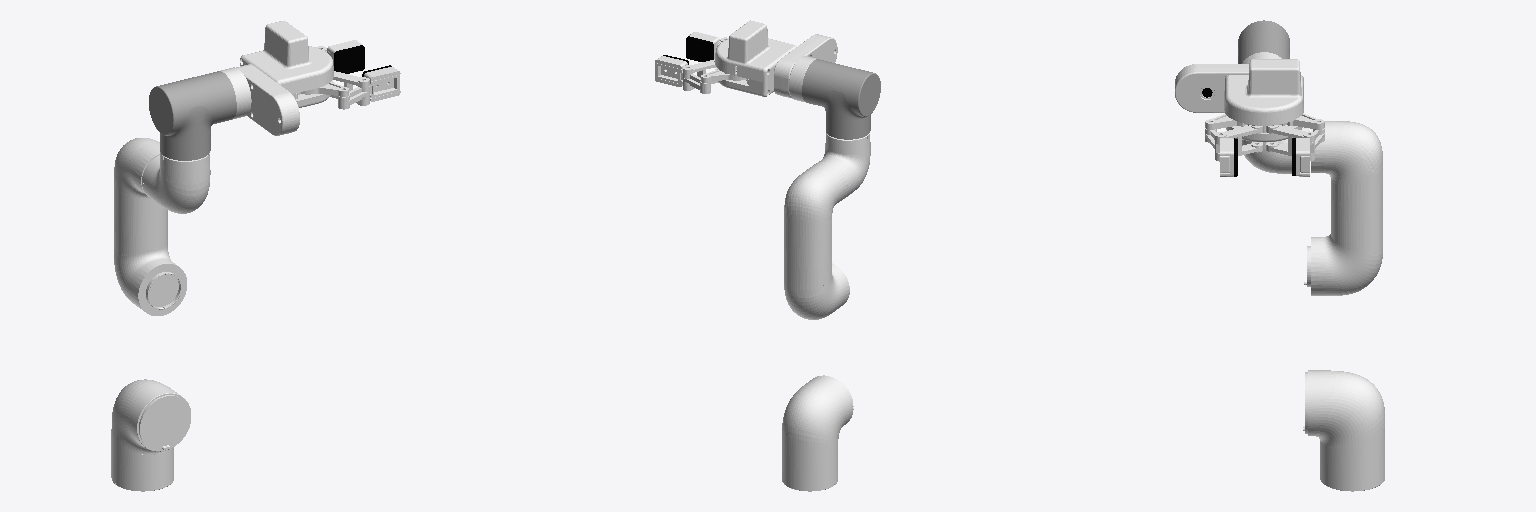
robot.urdf — mycobot_280_jn:
<?xml version="1.0"?>
<robot name="mycobot_280_jn">
  <link name="world"/>
  <joint name="world_to_g_base" type="fixed"><parent link="world"/><child link="g_base"/><origin xyz="0 0 0" rpy="0 0 0"/></joint>

  <link name="g_base">
    <visual>
      <geometry><mesh filename="package://mycobot_description/urdf/mycobot_280_jn_sim/meshes/visual/g_base.dae"/></geometry>
    </visual>
    <collision>
      <geometry><mesh filename="package://mycobot_description/urdf/mycobot_280_jn_sim/meshes/collision/g_base.stl"/></geometry>
    </collision>
    <inertial>
      <origin xyz="0.000004 0.000000 0.016000" rpy="0 0 0"/>
      <mass value="1.00000"/>
      <inertia ixx="1.9413e-03" ixy="3.1506e-09" ixz="8.1608e-14" iyy="1.0835e-03" iyz="-2.2217e-08" izz="2.8542e-03"/>
    </inertial>
  </link>
  <joint name="g_base_to_joint1" type="fixed"><parent link="g_base"/><child link="joint1"/><origin xyz="0 0 0.0320" rpy="0 0 0"/></joint>

  <link name="joint1">
    <visual>
      <geometry><mesh filename="package://mycobot_description/urdf/mycobot_280_jn_sim/meshes/visual/joint1.dae"/></geometry>
    </visual>
    <collision>
      <geometry><mesh filename="package://mycobot_description/urdf/mycobot_280_jn_sim/meshes/collision/joint1.stl"/></geometry>
    </collision>
    <inertial>
      <origin xyz="-0.000007 -0.000080 0.049738" rpy="0 0 0"/>
      <mass value="0.51726"/>
      <inertia ixx="1.2523e-03" ixy="7.0339e-09" ixz="-6.3450e-08" iyy="9.3955e-04" iyz="1.1529e-06" izz="1.2061e-03"/>
    </inertial>
  </link>
  <link name="joint2">
    <visual>
      <geometry><mesh filename="package://mycobot_description/urdf/mycobot_280_jn_sim/meshes/visual/joint2.dae"/></geometry>
    </visual>
    <collision>
      <geometry><mesh filename="package://mycobot_description/urdf/mycobot_280_jn_sim/meshes/collision/joint2.stl"/></geometry>
    </collision>
    <inertial>
      <origin xyz="-0.000000 -0.006642 -0.021543" rpy="0 0 0"/>
      <mass value="0.06483"/>
      <inertia ixx="4.7296e-05" ixy="-1.4455e-10" ixz="4.0893e-11" iyy="4.2690e-05" iyz="5.2950e-06" izz="2.4363e-05"/>
    </inertial>
  </link>
  <link name="joint3">
    <visual>
      <geometry><mesh filename="package://mycobot_description/urdf/mycobot_280_jn_sim/meshes/visual/joint3.dae"/></geometry>
    </visual>
    <collision>
      <geometry><mesh filename="package://mycobot_description/urdf/mycobot_280_jn_sim/meshes/collision/joint3.stl"/></geometry>
    </collision>
    <inertial>
      <origin xyz="-0.054329 -0.000001 0.055329" rpy="0 0 0"/>
      <mass value="0.11472"/>
      <inertia ixx="4.1667e-05" ixy="-4.5301e-09" ixz="-7.2144e-07" iyy="2.1506e-04" iyz="-8.8599e-10" izz="2.0847e-04"/>
    </inertial>
  </link>
  <link name="joint4">
    <visual>
      <geometry><mesh filename="package://mycobot_description/urdf/mycobot_280_jn_sim/meshes/visual/joint4.dae"/></geometry>
    </visual>
    <collision>
      <geometry><mesh filename="package://mycobot_description/urdf/mycobot_280_jn_sim/meshes/collision/joint4.stl"/></geometry>
    </collision>
    <inertial>
      <origin xyz="-0.045854 0.000000 0.007555" rpy="0 0 0"/>
      <mass value="0.09148"/>
      <inertia ixx="3.0829e-05" ixy="2.4590e-09" ixz="-3.0073e-06" iyy="1.3707e-04" iyz="1.3305e-09" izz="1.2859e-04"/>
    </inertial>
  </link>
  <link name="joint5">
    <visual>
      <geometry><mesh filename="package://mycobot_description/urdf/mycobot_280_jn_sim/meshes/visual/joint5.dae"/></geometry>
    </visual>
    <collision>
      <geometry><mesh filename="package://mycobot_description/urdf/mycobot_280_jn_sim/meshes/collision/joint5.stl"/></geometry>
    </collision>
    <inertial>
      <origin xyz="0.000001 -0.009519 -0.008481" rpy="0 0 0"/>
      <mass value="0.02935"/>
      <inertia ixx="1.1293e-05" ixy="2.2528e-10" ixz="1.0500e-10" iyy="8.1426e-06" iyz="1.6096e-06" izz="8.8742e-06"/>
    </inertial>
  </link>
  <link name="joint6">
    <visual>
      <geometry><mesh filename="package://mycobot_description/urdf/mycobot_280_jn_sim/meshes/visual/joint6.dae"/></geometry>
    </visual>
    <collision>
      <geometry><mesh filename="package://mycobot_description/urdf/mycobot_280_jn_sim/meshes/collision/joint6.stl"/></geometry>
    </collision>
    <inertial>
      <origin xyz="-0.000000 0.005619 -0.009142" rpy="0 0 0"/>
      <mass value="0.03671"/>
      <inertia ixx="1.6852e-05" ixy="1.3225e-11" ixz="9.2639e-11" iyy="1.2050e-05" iyz="-8.3674e-07" izz="1.2581e-05"/>
    </inertial>
  </link>
  <link name="joint6_flange">
    <visual>
      <geometry><mesh filename="package://mycobot_description/urdf/mycobot_280_jn_sim/meshes/visual/joint6_flange.dae"/></geometry>
    </visual>
    <collision>
      <geometry><mesh filename="package://mycobot_description/urdf/mycobot_280_jn_sim/meshes/collision/joint6_flange.stl"/></geometry>
    </collision>
    <inertial>
      <origin xyz="-0.000000 -0.000000 -0.005150" rpy="0 0 0"/>
      <mass value="0.00565"/>
      <inertia ixx="6.0852e-07" ixy="-5.1861e-24" ixz="1.4684e-24" iyy="6.0852e-07" iyz="-7.5632e-16" izz="1.0405e-06"/>
    </inertial>
  </link>
  <joint name="joint2_to_joint1" type="revolute">
    <parent link="joint1"/><child link="joint2"/>
    <origin xyz="0 0 0.15756" rpy="0 0 0"/>
    <axis xyz="0 0 1"/>
    <limit effort="10.0" lower="-2.9321" upper="2.9321" velocity="1.0"/>
    <dynamics damping="0.1" friction="0.01"/>
  </joint>
  <joint name="joint3_to_joint2" type="revolute">
    <parent link="joint2"/><child link="joint3"/>
    <origin xyz="0 0 -0.001" rpy="0 1.5708 -1.5708"/>
    <axis xyz="0 0 1"/>
    <limit effort="10.0" lower="-2.4434" upper="2.4434" velocity="1.0"/>
    <dynamics damping="0.1" friction="0.01"/>
  </joint>
  <joint name="joint4_to_joint3" type="revolute">
    <parent link="joint3"/><child link="joint4"/>
    <origin xyz="-0.1104 0 0" rpy="0 0 0"/>
    <axis xyz="0 0 1"/>
    <limit effort="10.0" lower="-2.6179" upper="2.6179" velocity="1.0"/>
    <dynamics damping="0.1" friction="0.01"/>
  </joint>
  <joint name="joint5_to_joint4" type="revolute">
    <parent link="joint4"/><child link="joint5"/>
    <origin xyz="-0.096 0 0.06462" rpy="0 0 -1.5708"/>
    <axis xyz="0 0 1"/>
    <limit effort="10.0" lower="-2.6179" upper="2.6179" velocity="1.0"/>
    <dynamics damping="0.1" friction="0.01"/>
  </joint>
  <joint name="joint6_to_joint5" type="revolute">
    <parent link="joint5"/><child link="joint6"/>
    <origin xyz="0 -0.07318 0" rpy="1.5708 -1.5708 0"/>
    <axis xyz="0 0 1"/>
    <limit effort="10.0" lower="-2.7052" upper="2.7925" velocity="1.0"/>
    <dynamics damping="0.1" friction="0.01"/>
  </joint>
  <joint name="joint6output_to_joint6" type="revolute">
    <parent link="joint6"/><child link="joint6_flange"/>
    <origin xyz="0 0.0456 0" rpy="-1.5708 0 0"/>
    <axis xyz="0 0 1"/>
    <limit effort="10.0" lower="-3.14159" upper="3.14159" velocity="1.0"/>
    <dynamics damping="0.1" friction="0.01"/>
  </joint>
  <joint name="joint6output_to_gripper_base" type="fixed">
    <parent link="joint6_flange"/><child link="gripper_base"/>
    <origin xyz="0 0 0.0505" rpy="1.5708 0 0"/>
  </joint>
  <link name="gripper_base">
    <visual>
      <geometry><mesh filename="package://mycobot_description/urdf/mycobot_280_jn_sim/meshes/visual/gripper_base.dae"/></geometry>
    </visual>
    <collision>
      <geometry><mesh filename="package://mycobot_description/urdf/mycobot_280_jn_sim/meshes/collision/gripper_base.stl"/></geometry>
    </collision>
    <inertial>
      <origin xyz="-0.001001 -0.003635 0.008093" rpy="0 0 0"/>
      <mass value="0.07075"/>
      <inertia ixx="2.8026e-05" ixy="5.3586e-08" ixz="1.3520e-06" iyy="2.7596e-05" iyz="-2.1469e-07" izz="3.3185e-05"/>
    </inertial>
  </link>
  <link name="gripper_left1">
    <visual>
      <geometry><mesh filename="package://mycobot_description/urdf/mycobot_280_jn_sim/meshes/visual/gripper_left1.dae"/></geometry>
    </visual>
    <collision>
      <geometry><mesh filename="package://mycobot_description/urdf/mycobot_280_jn_sim/meshes/collision/gripper_left1.stl"/></geometry>
    </collision>
    <inertial>
      <origin xyz="0.008214 0.028640 -0.008200" rpy="0 0 0"/>
      <mass value="0.00818"/>
      <inertia ixx="1.9436e-06" ixy="-4.0582e-07" ixz="-4.5846e-18" iyy="4.9518e-07" iyz="1.0352e-17" izz="1.9801e-06"/>
    </inertial>
  </link>
  <link name="gripper_left2">
    <visual>
      <geometry><mesh filename="package://mycobot_description/urdf/mycobot_280_jn_sim/meshes/visual/gripper_left2.dae"/></geometry>
    </visual>
    <collision>
      <geometry><mesh filename="package://mycobot_description/urdf/mycobot_280_jn_sim/meshes/collision/gripper_left2.stl"/></geometry>
    </collision>
    <inertial>
      <origin xyz="-0.014480 0.007475 -0.008200" rpy="0 0 0"/>
      <mass value="0.00382"/>
      <inertia ixx="2.5930e-07" ixy="1.8945e-07" ixz="3.4700e-22" iyy="4.8476e-07" iyz="-1.7350e-22" izz="4.9007e-07"/>
    </inertial>
  </link>
  <link name="gripper_left3">
    <visual>
      <geometry><mesh filename="package://mycobot_description/urdf/mycobot_280_jn_sim/meshes/visual/gripper_left3.dae"/></geometry>
    </visual>
    <collision>
      <geometry><mesh filename="package://mycobot_description/urdf/mycobot_280_jn_sim/meshes/collision/gripper_left3.stl"/></geometry>
    </collision>
    <inertial>
      <origin xyz="-0.007273 0.003393 -0.000700" rpy="0 0 0"/>
      <mass value="0.00262"/>
      <inertia ixx="1.8212e-07" ixy="1.1552e-07" ixz="3.0543e-22" iyy="3.1951e-07" iyz="-1.8344e-22" izz="4.9073e-07"/>
    </inertial>
  </link>
  <link name="gripper_right1">
    <visual>
      <geometry><mesh filename="package://mycobot_description/urdf/mycobot_280_jn_sim/meshes/visual/gripper_right1.dae"/></geometry>
    </visual>
    <collision>
      <geometry><mesh filename="package://mycobot_description/urdf/mycobot_280_jn_sim/meshes/collision/gripper_right1.stl"/></geometry>
    </collision>
    <inertial>
      <origin xyz="-0.009429 0.029012 -0.008200" rpy="0 0 0"/>
      <mass value="0.00818"/>
      <inertia ixx="1.9436e-06" ixy="4.0581e-07" ixz="-4.5855e-18" iyy="4.9518e-07" iyz="-1.0353e-17" izz="1.9801e-06"/>
    </inertial>
  </link>
  <link name="gripper_right2">
    <visual>
      <geometry><mesh filename="package://mycobot_description/urdf/mycobot_280_jn_sim/meshes/visual/gripper_right2.dae"/></geometry>
    </visual>
    <collision>
      <geometry><mesh filename="package://mycobot_description/urdf/mycobot_280_jn_sim/meshes/collision/gripper_right2.stl"/></geometry>
    </collision>
    <inertial>
      <origin xyz="0.013373 0.007661 -0.008200" rpy="0 0 0"/>
      <mass value="0.00382"/>
      <inertia ixx="2.6459e-07" ixy="-1.9250e-07" ixz="-4.0483e-22" iyy="4.7946e-07" iyz="2.8917e-23" izz="4.9007e-07"/>
    </inertial>
  </link>
  <link name="gripper_right3">
    <visual>
      <geometry><mesh filename="package://mycobot_description/urdf/mycobot_280_jn_sim/meshes/visual/gripper_right3.dae"/></geometry>
    </visual>
    <collision>
      <geometry><mesh filename="package://mycobot_description/urdf/mycobot_280_jn_sim/meshes/collision/gripper_right3.stl"/></geometry>
    </collision>
    <inertial>
      <origin xyz="0.006227 0.003481 -0.000700" rpy="0 0 0"/>
      <mass value="0.00262"/>
      <inertia ixx="1.8527e-07" ixy="-1.1744e-07" ixz="-1.9519e-22" iyy="3.1623e-07" iyz="-1.5091e-22" izz="4.9060e-07"/>
    </inertial>
  </link>
  <joint name="gripper_controller" type="revolute">
    <parent link="gripper_base"/><child link="gripper_left3"/>
    <origin xyz="-0.012 0.005 0" rpy="0 0 0"/>
    <axis xyz="0 0 1"/>
    <limit effort="10.0" lower="-0.74" upper="0.15" velocity="1.0"/>
    <dynamics damping="0.1" friction="0.01"/>
  </joint>
  <joint name="gripper_base_to_gripper_left2" type="revolute">
    <parent link="gripper_base"/><child link="gripper_left2"/>
    <origin xyz="-0.005 0.027 0" rpy="0 0 0"/>
    <axis xyz="0 0 1"/>
    <limit effort="10.0" lower="-0.8" upper="0.5" velocity="1.0"/>
    <dynamics damping="0.1" friction="0.01"/>
    <mimic joint="gripper_controller" multiplier="1.0" offset="0"/>
  </joint>
  <joint name="gripper_left3_to_gripper_left1" type="revolute">
    <parent link="gripper_left3"/><child link="gripper_left1"/>
    <origin xyz="-0.027 0.016 0" rpy="0 0 0"/>
    <axis xyz="0 0 1"/>
    <limit effort="10.0" lower="-0.5" upper="0.5" velocity="1.0"/>
    <dynamics damping="0.1" friction="0.01"/>
    <mimic joint="gripper_controller" multiplier="-1.0" offset="0"/>
  </joint>
  <joint name="gripper_base_to_gripper_right3" type="revolute">
    <parent link="gripper_base"/><child link="gripper_right3"/>
    <origin xyz="0.012 0.005 0" rpy="0 0 0"/>
    <axis xyz="0 0 1"/>
    <limit effort="10.0" lower="-0.15" upper="0.7" velocity="1.0"/>
    <dynamics damping="0.1" friction="0.01"/>
    <mimic joint="gripper_controller" multiplier="-1.0" offset="0"/>
  </joint>
  <joint name="gripper_base_to_gripper_right2" type="revolute">
    <parent link="gripper_base"/><child link="gripper_right2"/>
    <origin xyz="0.005 0.027 0" rpy="0 0 0"/>
    <axis xyz="0 0 1"/>
    <limit effort="10.0" lower="-0.5" upper="0.8" velocity="1.0"/>
    <dynamics damping="0.1" friction="0.01"/>
    <mimic joint="gripper_controller" multiplier="-1.0" offset="0"/>
  </joint>
  <joint name="gripper_right3_to_gripper_right1" type="revolute">
    <parent link="gripper_right3"/><child link="gripper_right1"/>
    <origin xyz="0.027 0.016 0" rpy="0 0 0"/>
    <axis xyz="0 0 1"/>
    <limit effort="10.0" lower="-0.5" upper="0.5" velocity="1.0"/>
    <dynamics damping="0.1" friction="0.01"/>
    <mimic joint="gripper_controller" multiplier="1.0" offset="0"/>
  </joint>
  <joint name="joint6output_to_camera_flange" type="fixed">
    <parent link="joint6_flange"/><child link="camera_flange"/>
    <origin xyz="0 0 0.01" rpy="1.5708 0 0"/>
  </joint>
  <link name="camera_flange">
    <visual>
      <geometry><mesh filename="package://mycobot_description/urdf/mycobot_280_jn_sim/meshes/visual/camera_flange.dae"/></geometry>
    </visual>
    <collision>
      <geometry><mesh filename="package://mycobot_description/urdf/mycobot_280_jn_sim/meshes/collision/camera_flange.stl"/></geometry>
    </collision>
    <inertial>
      <origin xyz="0.023130 0.000000 -0.000136" rpy="0 0 0"/>
      <mass value="0.03000"/>
      <inertia ixx="3.1836e-06" ixy="2.6569e-11" ixz="-3.1215e-09" iyy="1.7767e-05" iyz="4.1651e-11" izz="1.5849e-05"/>
    </inertial>
  </link>

  <!-- Simulated camera, placed on the lens of Elephant's camera-module mesh and looking out of it. -->
  <link name="camera_link"/>
  <joint name="camera_flange_to_camera_link" type="fixed">
    <parent link="camera_flange"/><child link="camera_link"/>
    <origin xyz="0.0415 0.0083 0.0000" rpy="0 0 1.5708"/>
  </joint>
  <gazebo reference="camera_link">
    <sensor name="wrist_camera" type="camera">
      <always_on>1</always_on><update_rate>30</update_rate><visualize>true</visualize>
      <topic>wrist_camera/image_raw</topic>
      <camera>
        <horizontal_fov>1.047</horizontal_fov>
        <image><width>640</width><height>480</height><format>R8G8B8</format></image>
        <clip><near>0.02</near><far>5.0</far></clip>
      </camera>
    </sensor>
  </gazebo>

  <!-- Gazebo: gravity off on the moving links (passive joints would otherwise fall; no controller yet) -->
  <gazebo reference="joint2"><turnGravityOff>true</turnGravityOff></gazebo>
  <gazebo reference="joint3"><turnGravityOff>true</turnGravityOff></gazebo>
  <gazebo reference="joint4"><turnGravityOff>true</turnGravityOff></gazebo>
  <gazebo reference="joint5"><turnGravityOff>true</turnGravityOff></gazebo>
  <gazebo reference="joint6"><turnGravityOff>true</turnGravityOff></gazebo>
  <gazebo reference="joint6_flange"><turnGravityOff>true</turnGravityOff></gazebo>
  <gazebo reference="gripper_base"><turnGravityOff>true</turnGravityOff></gazebo>
  <gazebo reference="gripper_left1"><turnGravityOff>true</turnGravityOff></gazebo>
  <gazebo reference="gripper_left2"><turnGravityOff>true</turnGravityOff></gazebo>
  <gazebo reference="gripper_left3"><turnGravityOff>true</turnGravityOff></gazebo>
  <gazebo reference="gripper_right1"><turnGravityOff>true</turnGravityOff></gazebo>
  <gazebo reference="gripper_right2"><turnGravityOff>true</turnGravityOff></gazebo>
  <gazebo reference="gripper_right3"><turnGravityOff>true</turnGravityOff></gazebo>
  <gazebo reference="camera_flange"><turnGravityOff>true</turnGravityOff></gazebo>
</robot>

--- What the picture shows (computed from the rendered views, not written in the file) ---
Views: 3 orthographic renders of the robot side by side, from view 1: azimuth 30°, elevation 25°; view 2: azimuth 150°, elevation 25°; view 3: azimuth 270°, elevation 25°.
Robot: mycobot_280_jn — 18 links, 17 joints (12 revolute, 5 fixed); root link world; default pose: all joints at 0.
Visible links, largest first — view 1: joint4, joint2, joint6, gripper_base, joint5, camera_flange, gripper_right1, gripper_left1, joint6_flange; view 2: joint4, joint2, joint6, gripper_base, joint5, camera_flange, gripper_left1, gripper_right1, joint6_flange; view 3: joint4, joint2, gripper_base, camera_flange, joint6, joint5, gripper_right1, gripper_left1, gripper_left2, gripper_right2.
Boxes of the visible links, x1,y1,x2,y2 form: joint4: (114, 138, 186, 315); joint2: (111, 379, 190, 491); joint6: (149, 71, 236, 160); gripper_base: (240, 21, 333, 107); joint5: (142, 152, 210, 213); camera_flange: (236, 64, 299, 135); gripper_right1: (338, 65, 400, 109); gripper_left1: (327, 40, 364, 73); joint6_flange: (221, 67, 251, 119); joint4: (784, 161, 849, 319); joint2: (782, 375, 853, 491); joint6: (802, 59, 880, 139); gripper_base: (715, 20, 797, 96); joint5: (819, 133, 870, 200); camera_flange: (774, 34, 837, 98); gripper_left1: (655, 55, 710, 93); gripper_right1: (686, 32, 719, 61); joint6_flange: (789, 56, 815, 101); joint4: (1304, 121, 1382, 295); joint2: (1303, 370, 1384, 491); gripper_base: (1224, 59, 1303, 141); camera_flange: (1175, 64, 1248, 112); joint6: (1238, 20, 1289, 63); joint5: (1242, 127, 1309, 173); gripper_right1: (1205, 128, 1237, 176); gripper_left1: (1292, 128, 1324, 176); gripper_left2: (1266, 125, 1314, 160); gripper_right2: (1215, 125, 1262, 161).
Size in the robot's own frame: 0.1947 by 0.1541 by 0.3804 metres.
Meshes: 16 distinct files referenced, 13 mesh visuals loaded (13 Collada DAE); not drawn: 3 (reference not matched to a file when rendering).
